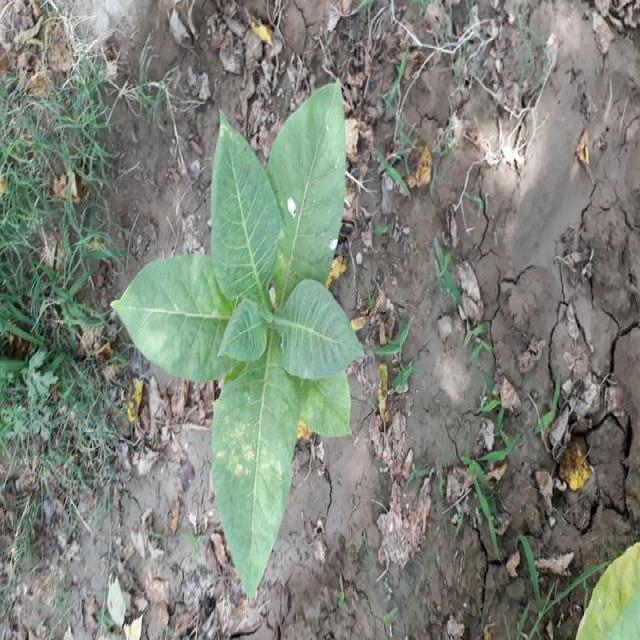crop: (117, 74, 356, 580), (575, 548, 640, 640)
